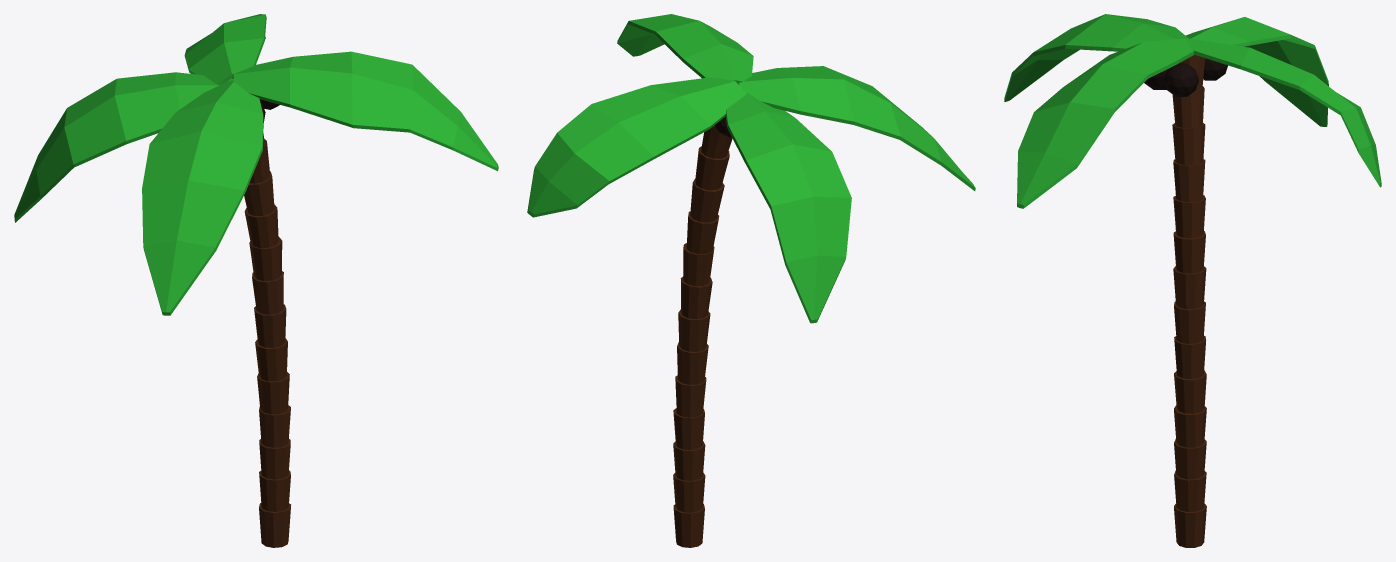
The model's file is palmtree3.obj.
3 views of the same model, side by side, from view 1: azimuth 30°, elevation 25°; view 2: azimuth 150°, elevation 25°; view 3: azimuth 270°, elevation 25° (orthographic). The views are drawn at different scales.
Visible parts, largest first — view 1: Cylinder.012; view 2: Cylinder.012; view 3: Cylinder.012.
Part boxes in pixels (x1,y1,x2,y2): Cylinder.012: (14, 14, 498, 547); Cylinder.012: (527, 14, 975, 547); Cylinder.012: (1004, 14, 1381, 547).
Bounding box in the file's own units: 3.75 × 5.15 × 3.56.
